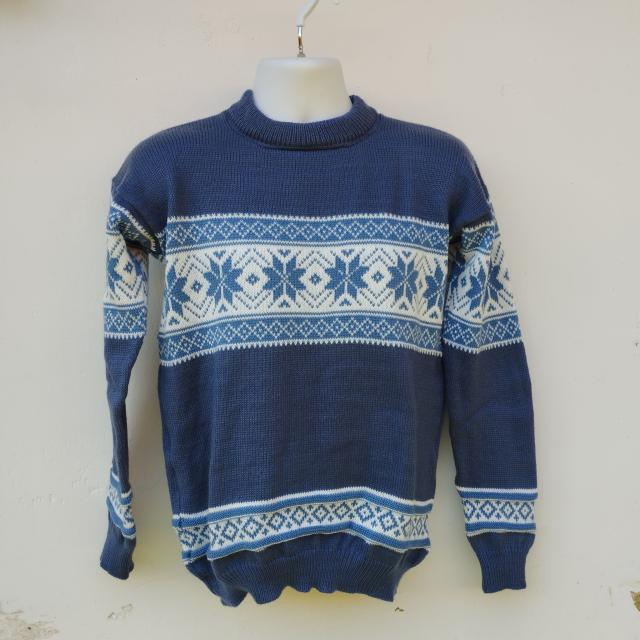Chompa: (100, 78, 539, 607)
